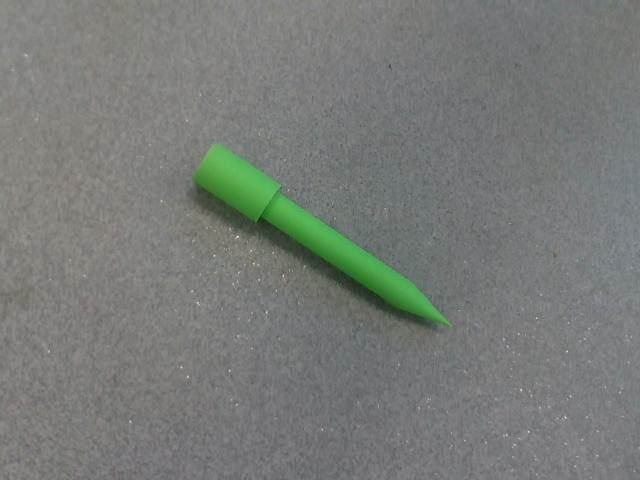Probe: (187, 137, 472, 341)
